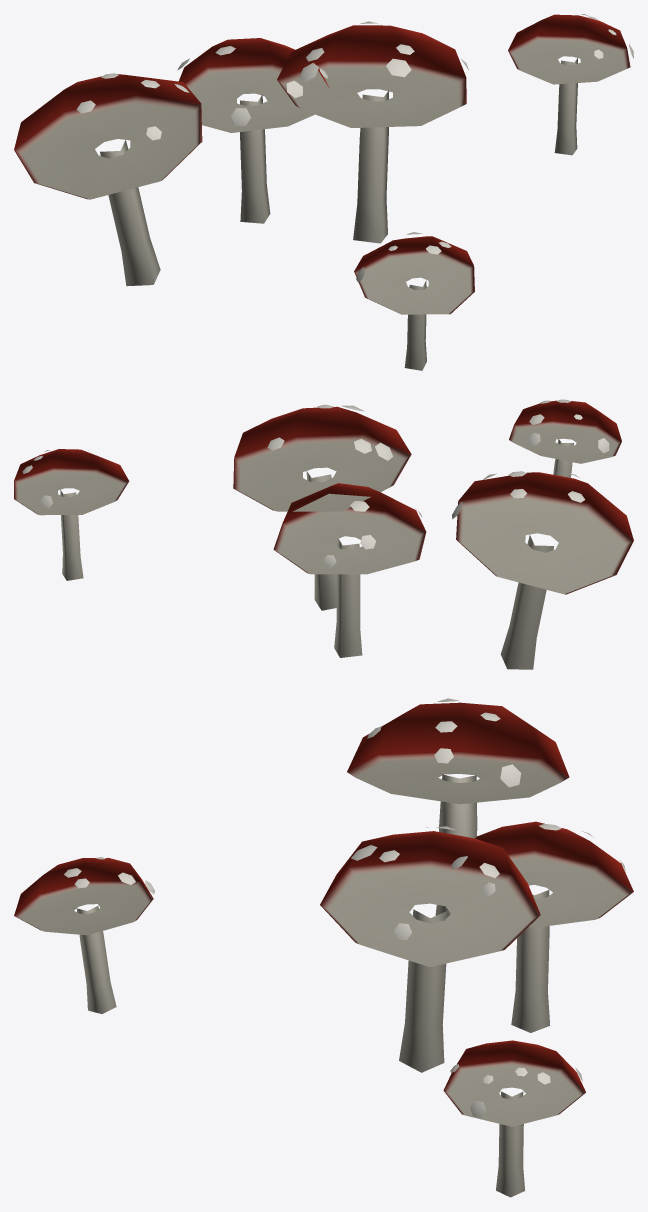
The model's file is mushroom-fly-agaric-b.lod1.glb.
3 renders of one model, top to bottom at view 1: azimuth 30°, elevation 25°; view 2: azimuth 150°, elevation 25°; view 3: azimuth 270°, elevation 25°, orthographic. The views are drawn at different scales.
Visible parts, largest first — view 1: mushroom-fly-agaric-b.lod1; view 2: mushroom-fly-agaric-b.lod1; view 3: mushroom-fly-agaric-b.lod1.
Boxes of the visible parts, x1,y1,x2,y2 form: mushroom-fly-agaric-b.lod1: [14, 14, 633, 370]; mushroom-fly-agaric-b.lod1: [14, 399, 633, 669]; mushroom-fly-agaric-b.lod1: [14, 698, 633, 1197].
Bounding box in the file's own units: 0.5065 × 0.1587 × 0.3924.
